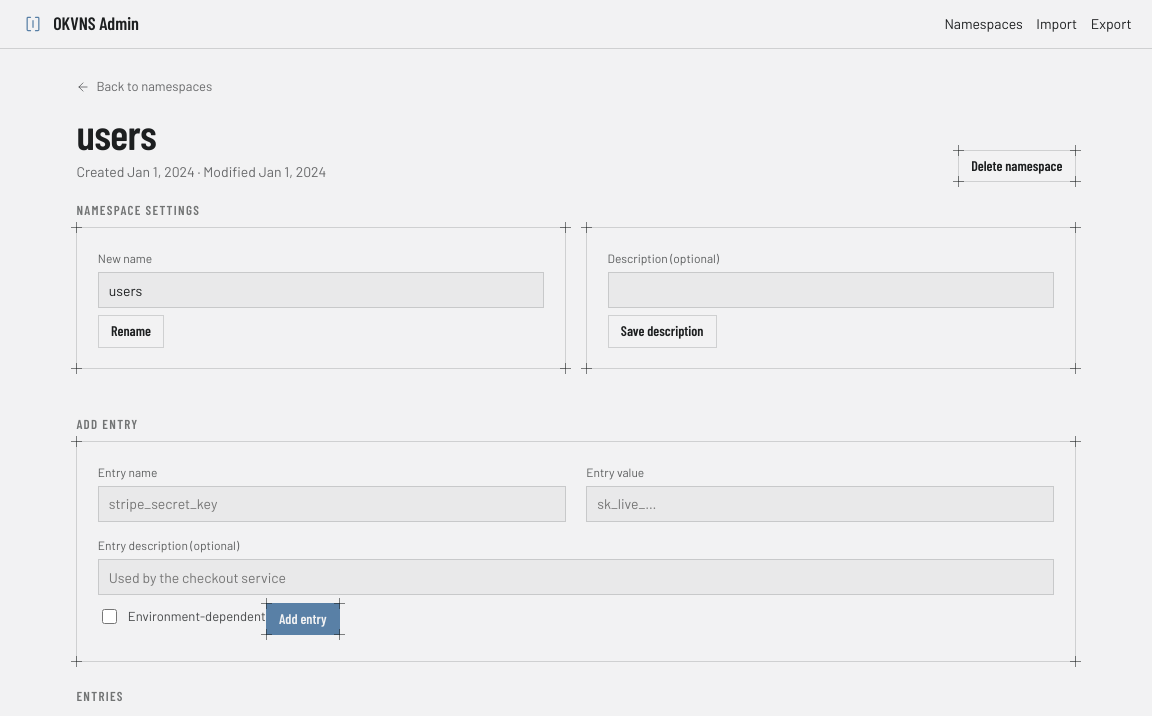
it: NamespaceDetailPage › creates a new entry marked as environment-dependent
Check: the heading "users" is shown, box [76,108,156,158]
Type "db-host" into the field labelled "Entry name".
click(332, 504); type("db-host")  # box [98,486,566,522]
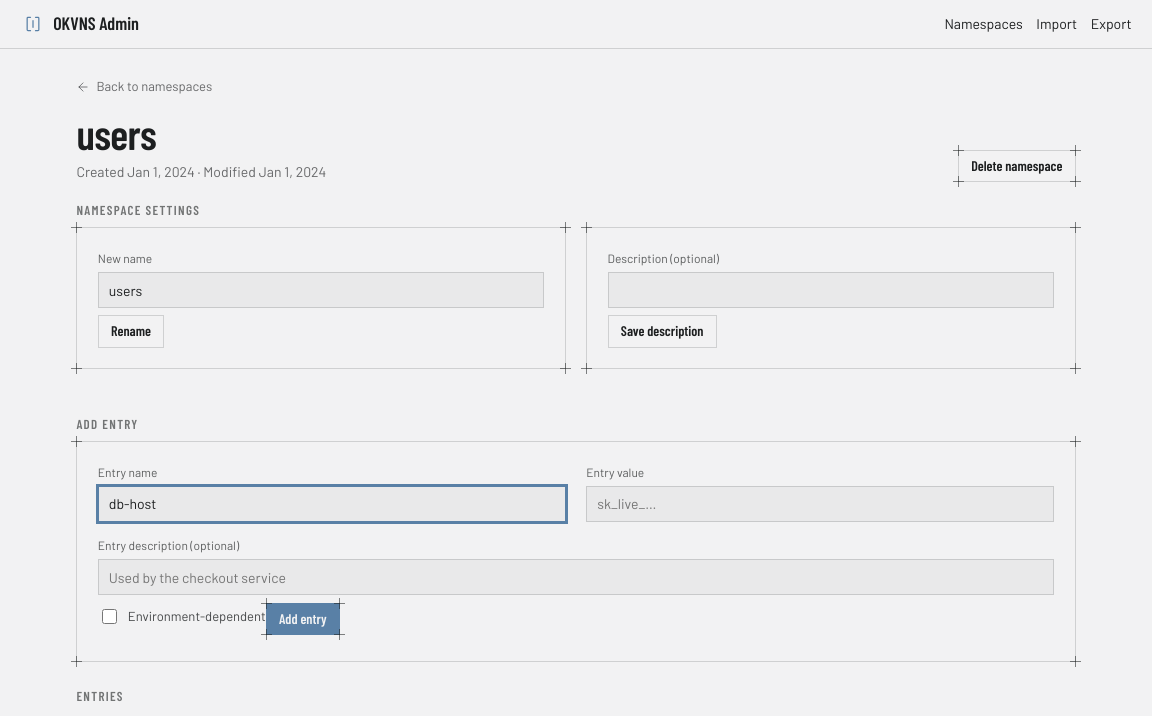
Type "localhost" into the field labelled "Entry value".
click(820, 504); type("localhost")  # box [586,486,1054,522]
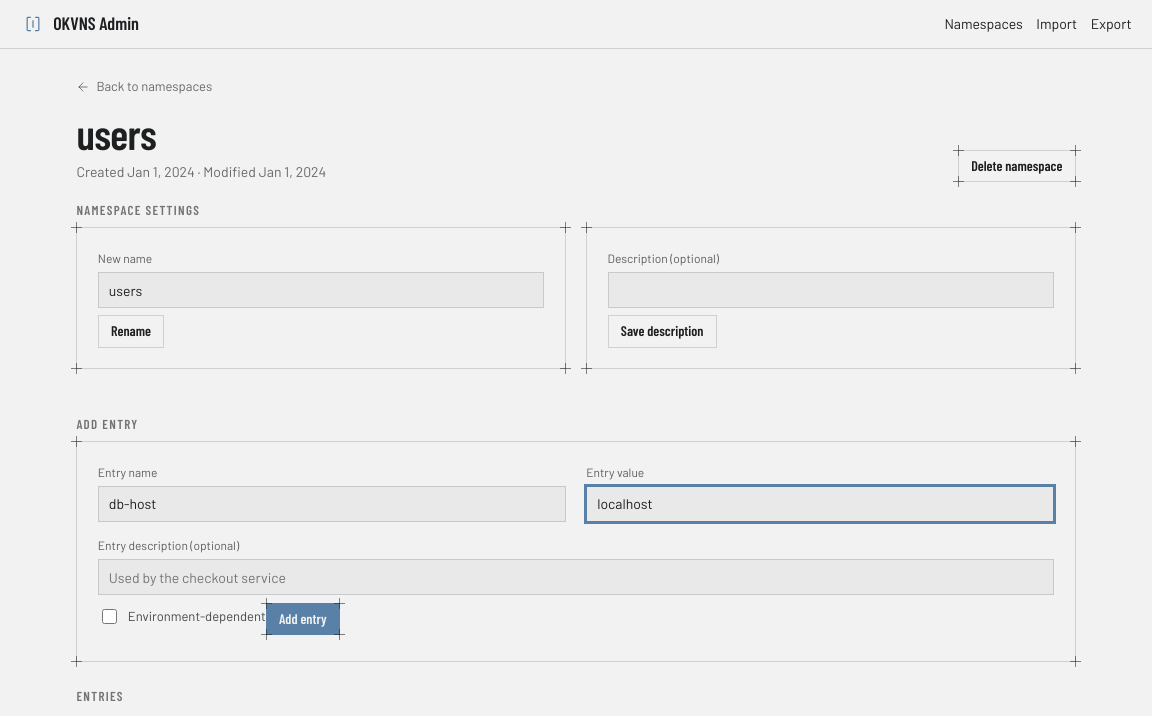
Click the checkbox labelled "Environment-dependent".
click(109, 616)  # box [102,609,117,624]
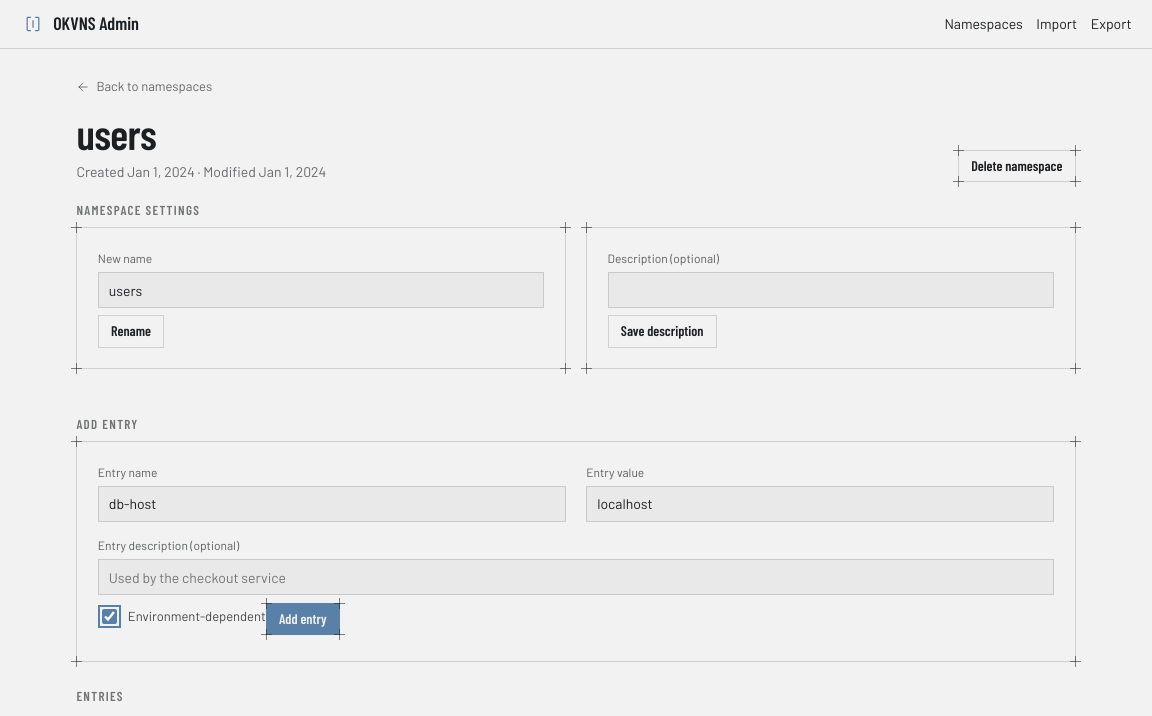
Click the button "Add entry".
click(303, 619)  # box [266,603,340,635]
(page scrolled)
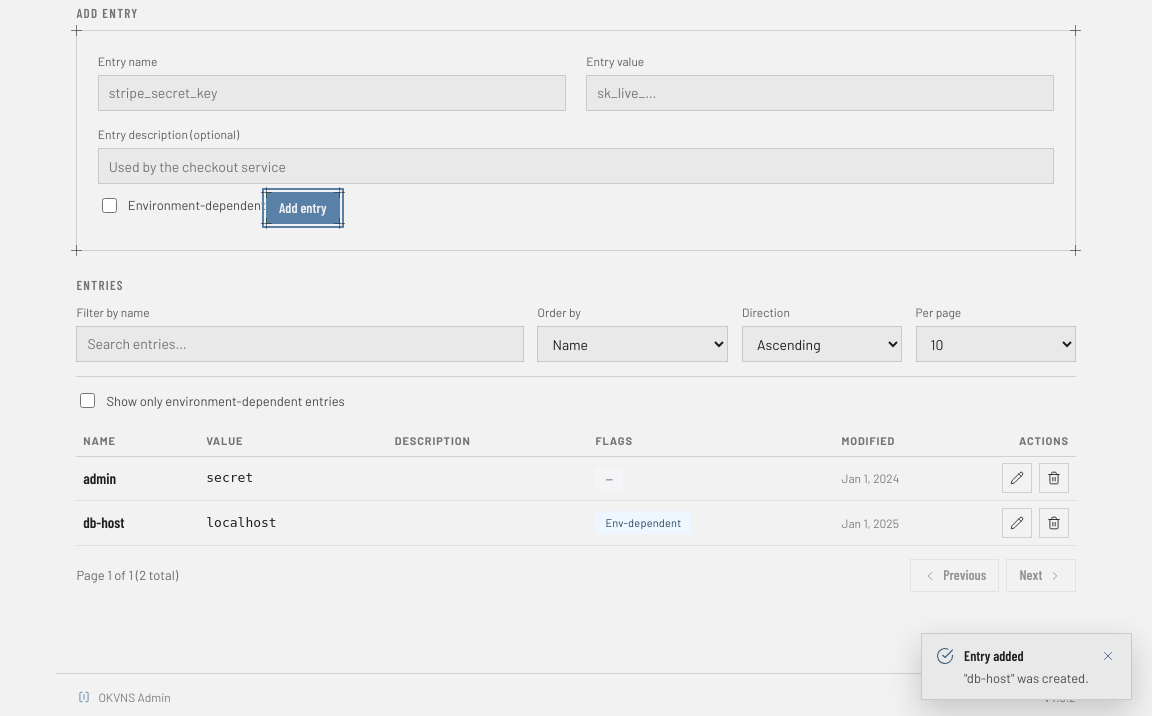
Check: the checkbox labelled "Environment-dependent" is not checked, box [102,198,117,213]
Check: the text "Env-dependent" is shown, box [595,511,692,534]
Click the button named "Edit entry db-host".
click(1017, 523)  # box [1002,508,1032,538]
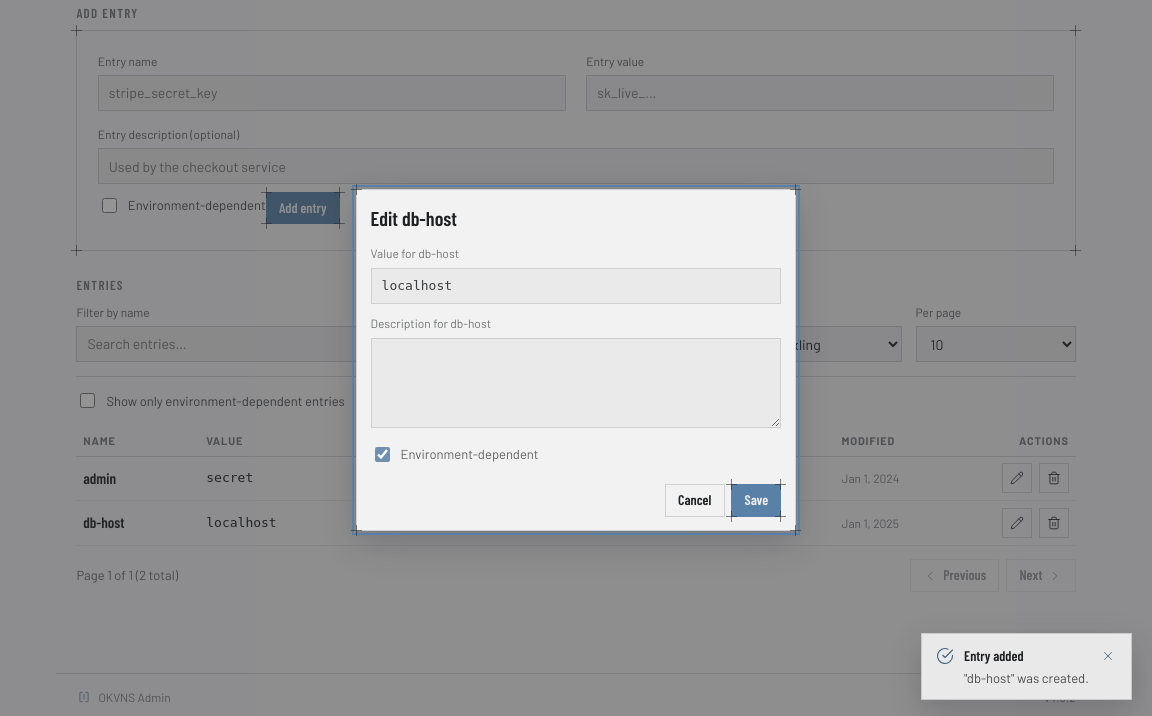
Check: the checkbox named "Environment-dependent for db-host" is checked, box [375,447,390,462]
